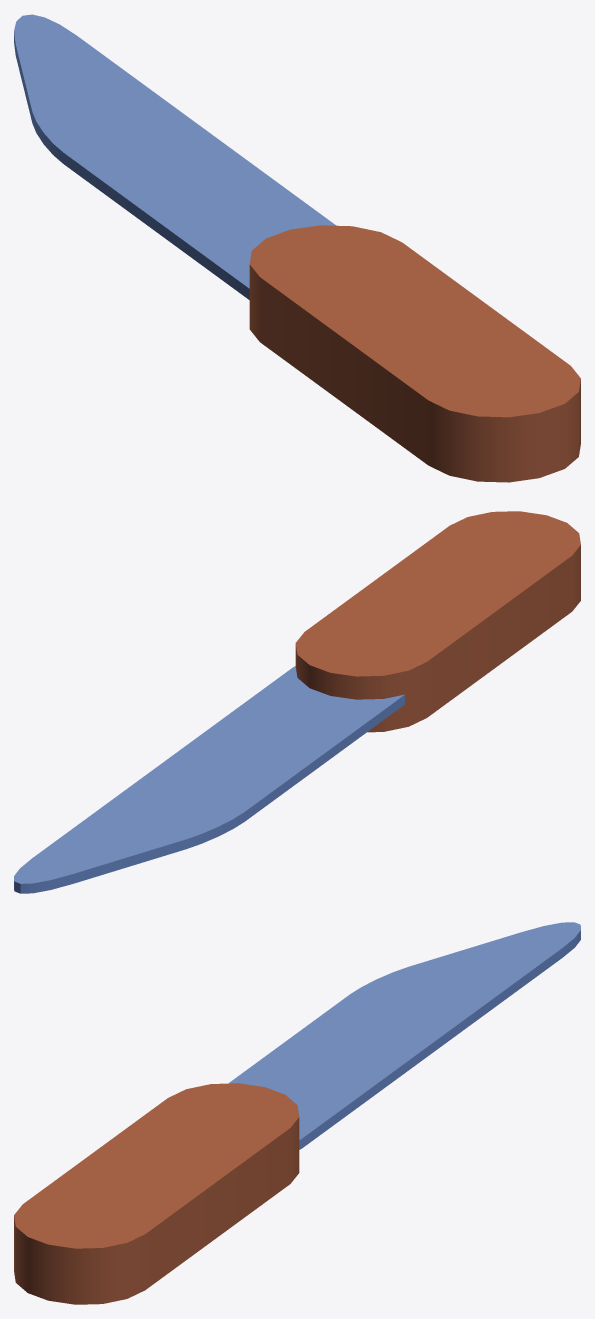
The model's file is Knife E.fbx.
The picture shows the model from 3 angles, top to bottom: view 1: azimuth 30°, elevation 25°; view 2: azimuth 150°, elevation 25°; view 3: azimuth 330°, elevation 25°; orthographic projection. The views are drawn at different scales.
Visible parts, largest first — view 1: Knife.002; view 2: Knife.002; view 3: Knife.002.
Part boxes in pixels (box(x1,y1,x2,y2)): Knife.002: box(14, 14, 580, 482); Knife.002: box(14, 511, 580, 893); Knife.002: box(14, 922, 580, 1304).
Bounding box in the file's own units: 0.0973 × 0.0426 × 0.6681.
